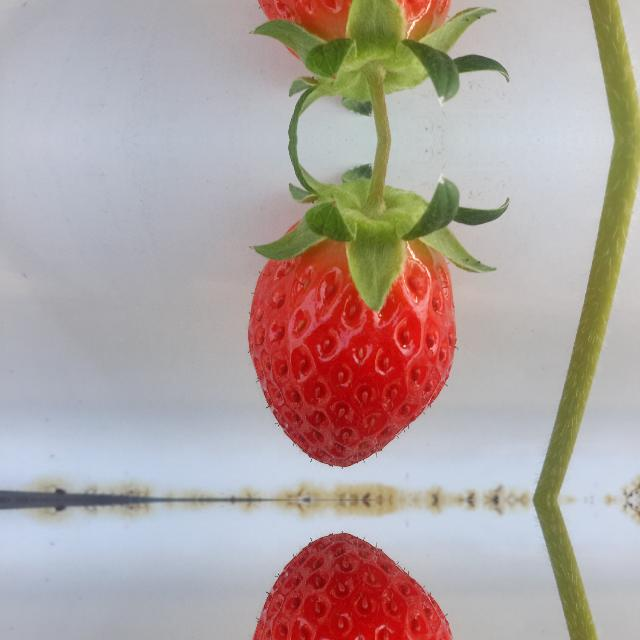Health_100: (248, 202, 456, 466), (248, 533, 456, 640), (248, 0, 456, 78)
